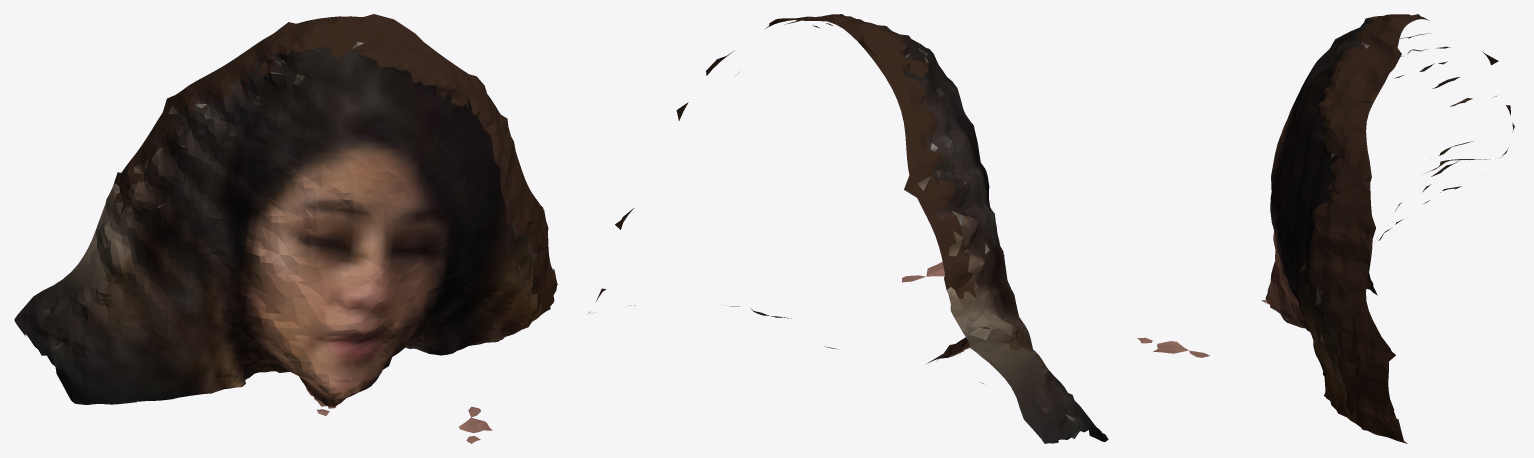
The picture shows the model from 3 angles, left to right: view 1: azimuth 30°, elevation 25°; view 2: azimuth 150°, elevation 25°; view 3: azimuth 270°, elevation 25°; orthographic projection. The views are drawn at different scales.
Bounding box in the file's own units: 0.3825 × 0.2464 × 0.2738.
Materials: 1 (1 with a texture image).
